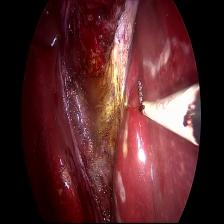Hook: (134, 78, 202, 150)
